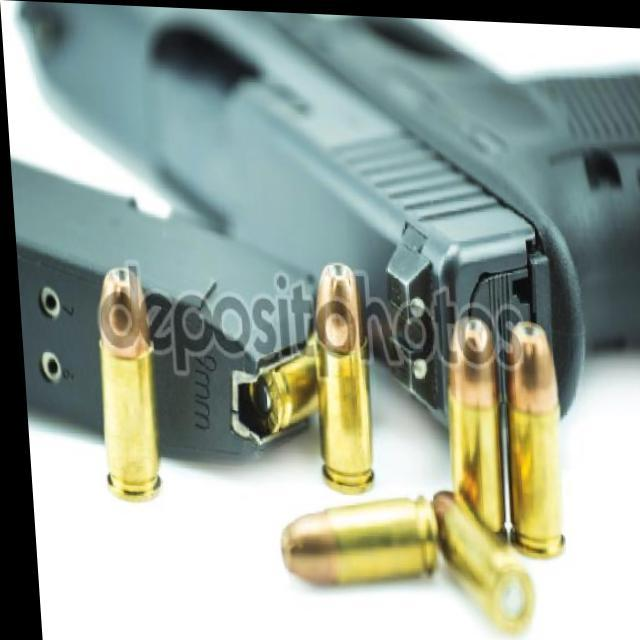weapon: (6, 107, 333, 490)
